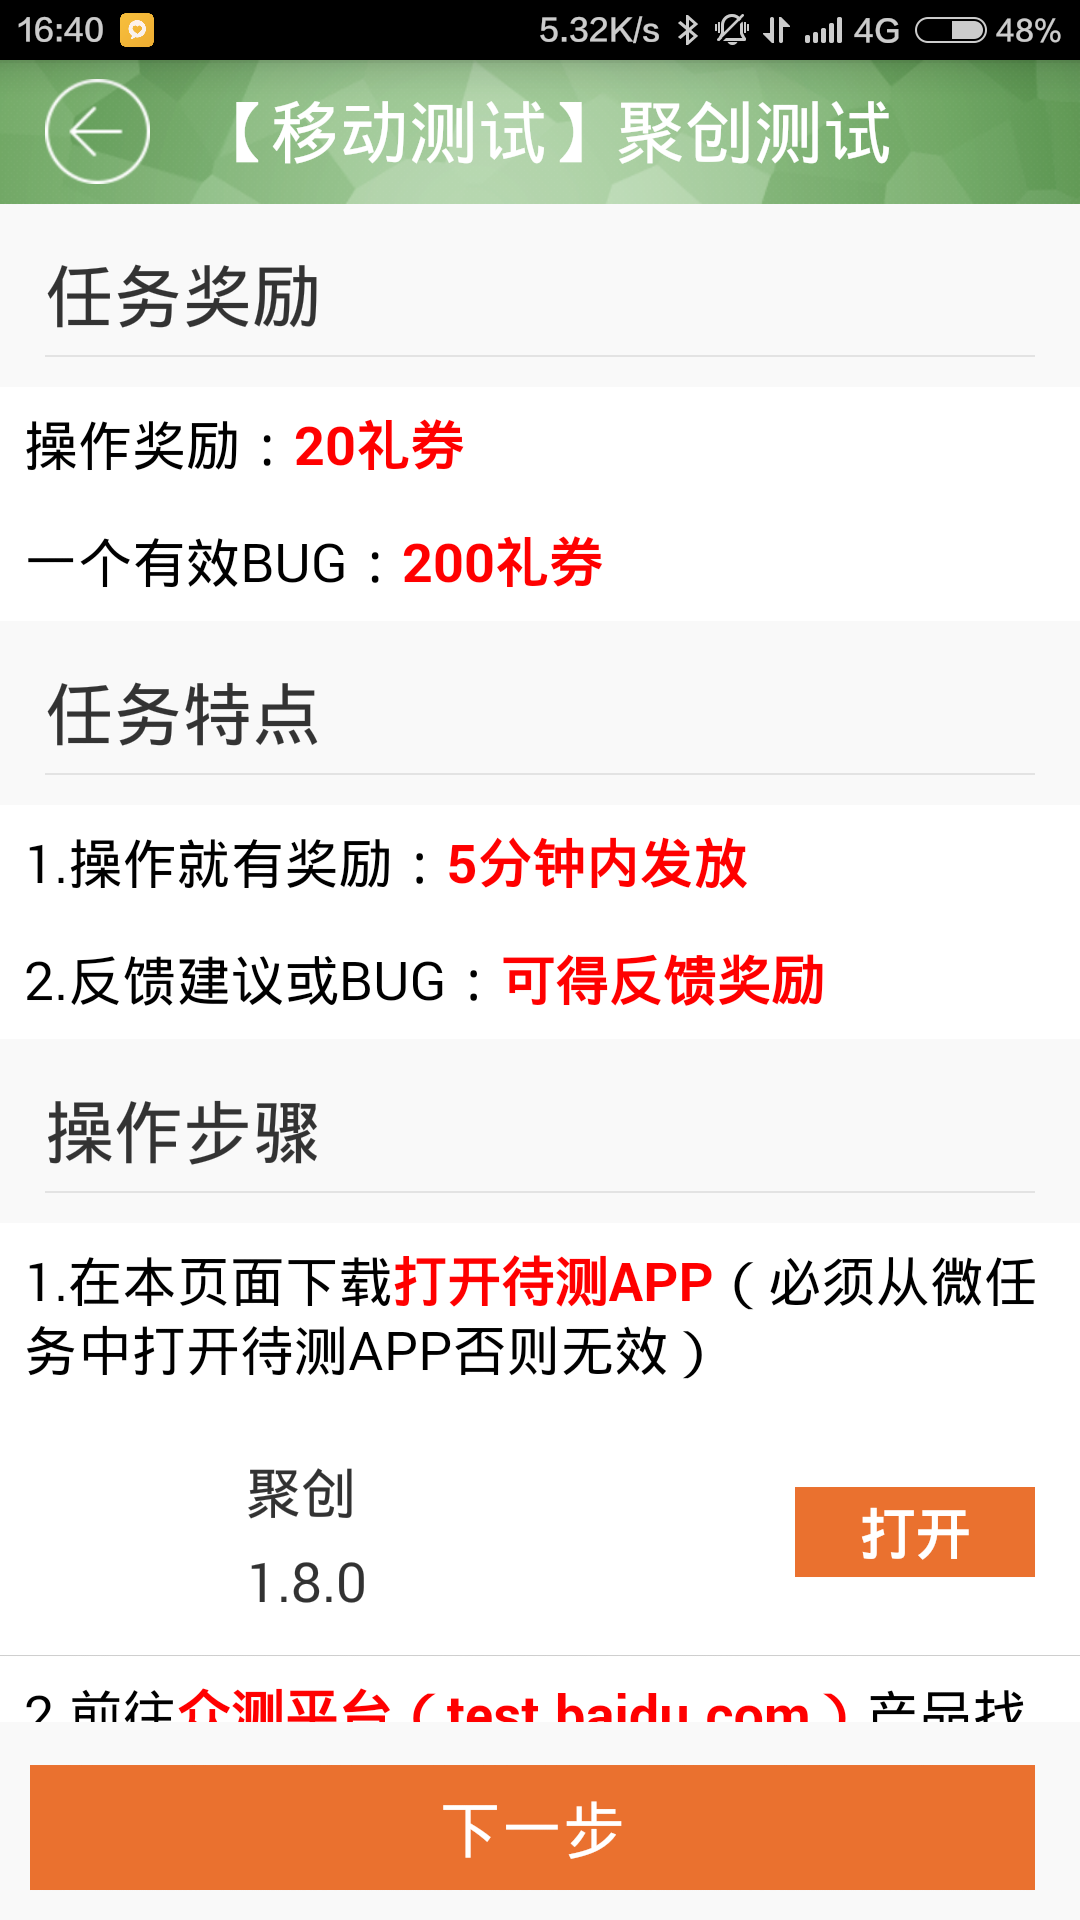button: (13, 1751, 1060, 1909), (754, 1460, 1054, 1600)
imgbutton: (40, 73, 177, 189)
textview: (18, 653, 981, 1033), (218, 84, 919, 187)
